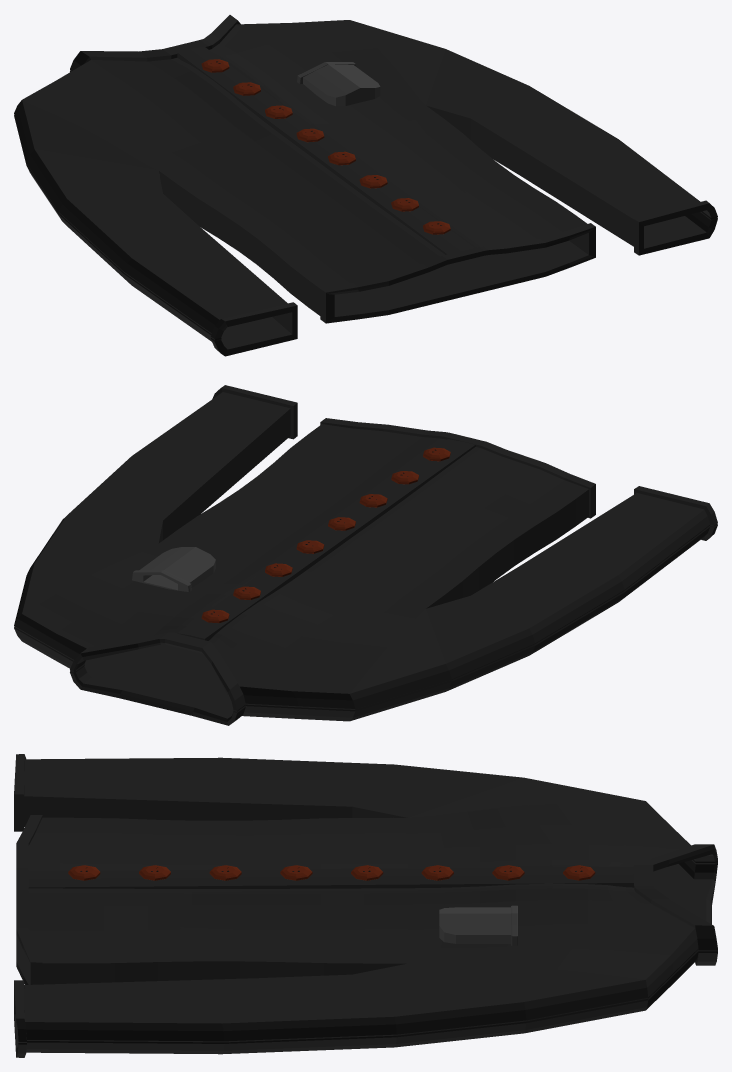
File: Jacket 2.fbx
3 renders of one model, top to bottom at view 1: azimuth 30°, elevation 25°; view 2: azimuth 150°, elevation 25°; view 3: azimuth 270°, elevation 25°, orthographic. The views are drawn at different scales.
Visible parts, largest first — view 1: Node 0; view 2: Node 0; view 3: Node 0.
Boxes of the visible parts, x1,y1,x2,y2 form: Node 0: [14, 15, 717, 356]; Node 0: [14, 385, 717, 725]; Node 0: [14, 754, 717, 1057].
Size of the model in its own units: 1.11 by 0.1002 by 1.03.
